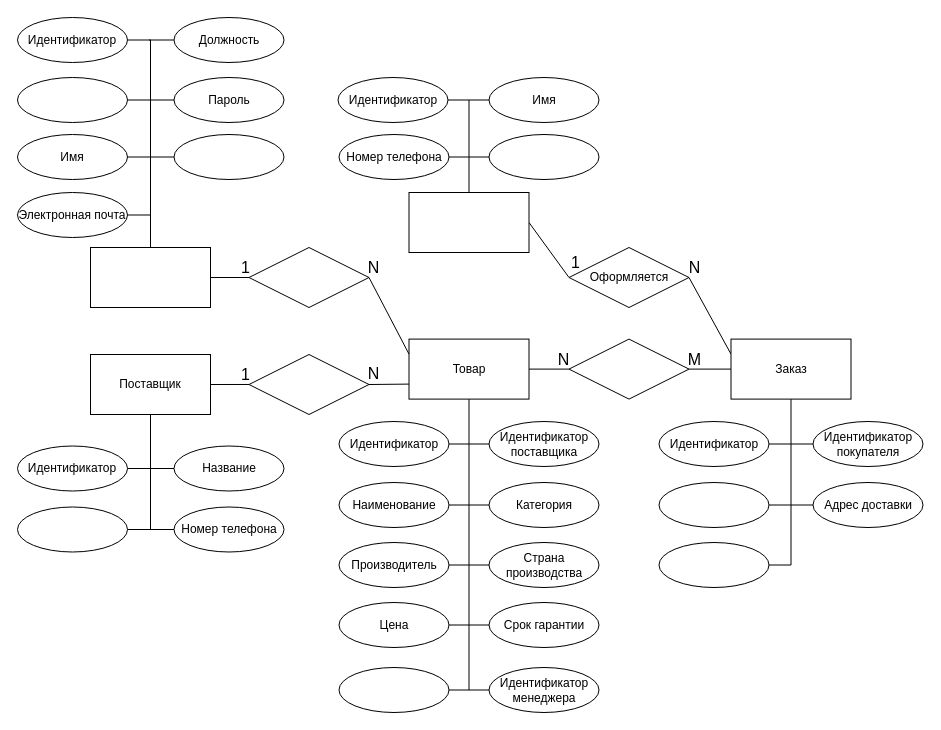
This 941x730 diagram has some shape labels left out. Here are the shapes that lost their labels. From the top down, the box of each, then its label:
(16, 76, 128, 122): Логин
(173, 134, 284, 180): Фамилия
(488, 134, 599, 180): Общая сумма покупок
(408, 192, 529, 252): Покупатель
(90, 246, 210, 308): Пользователь
(248, 246, 369, 308): Добавлен
(248, 354, 369, 414): Поставляется
(568, 338, 689, 399): Добавляется в
(658, 482, 769, 528): Стоимость
(16, 506, 128, 552): Адрес
(658, 542, 769, 588): Дата оформления
(338, 666, 449, 712): Количество в наличии
